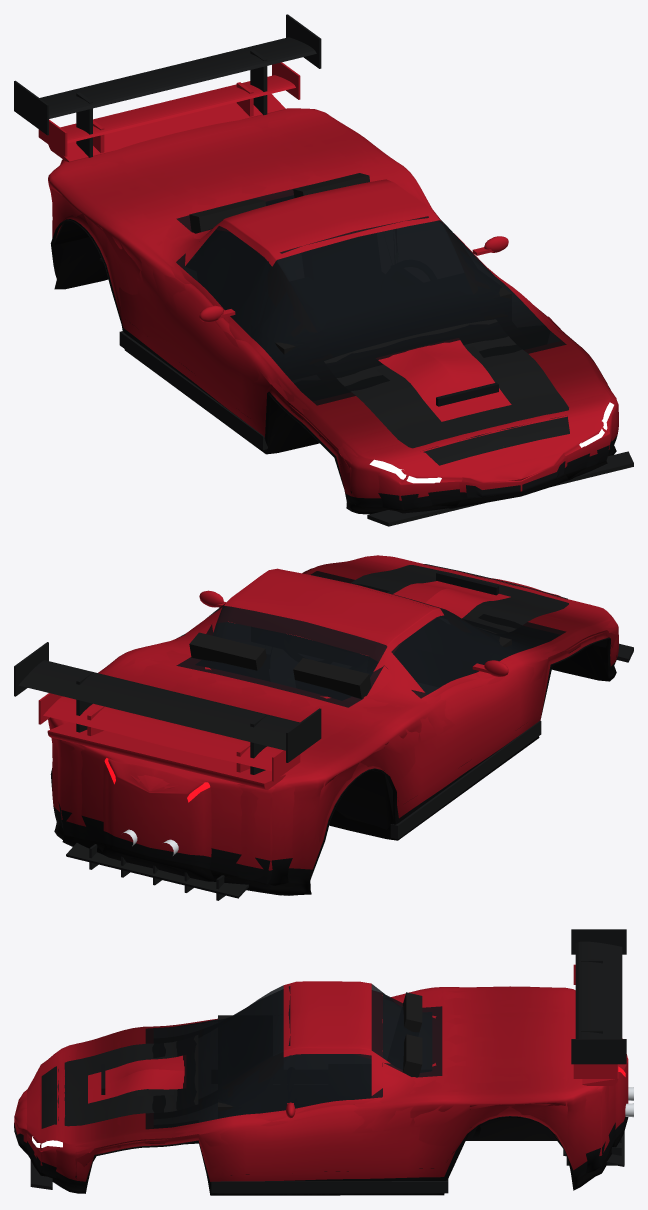
Rendered from sr_lamborghini_huracan_tt.glb.
3 views of the same model, one above another, from view 1: azimuth 30°, elevation 25°; view 2: azimuth 150°, elevation 25°; view 3: azimuth 270°, elevation 25° (orthographic). The views are drawn at different scales.
Visible parts, largest first — view 1: body (×2), hood_3, spoiler_3, hood_1, spoiler_2, bumper_1, spoiler_1, interior, mirrors, grille, headlights; view 2: body (×2), spoiler_3, spoiler_2, bumper_1, spoiler_1, hood_3, interior, hood_1, mirrors, hood_1_intake; view 3: body (×2), spoiler_3, hood_3, bumper_1, hood_1, interior, spoiler_2.
Part boxes in pixels (bbox=[...]): body (×2): bbox=[48, 108, 618, 514]; hood_3: bbox=[324, 319, 569, 465]; spoiler_3: bbox=[14, 14, 321, 157]; hood_1: bbox=[378, 340, 511, 421]; spoiler_2: bbox=[38, 62, 300, 156]; bumper_1: bbox=[99, 258, 633, 526]; spoiler_1: bbox=[48, 94, 285, 162]; interior: bbox=[189, 173, 511, 354]; mirrors: bbox=[199, 236, 508, 322]; grille: bbox=[466, 461, 565, 497]; headlights: bbox=[369, 403, 613, 483]; body (×2): bbox=[48, 555, 618, 895]; spoiler_3: bbox=[14, 642, 321, 774]; spoiler_2: bbox=[38, 693, 300, 781]; bumper_1: bbox=[66, 643, 633, 900]; spoiler_1: bbox=[47, 722, 285, 790]; hood_3: bbox=[351, 564, 568, 633]; interior: bbox=[189, 632, 511, 698]; hood_1: bbox=[392, 581, 510, 618]; mirrors: bbox=[199, 590, 508, 676]; hood_1_intake: bbox=[436, 571, 498, 595]; body (×2): bbox=[14, 981, 628, 1195]; spoiler_3: bbox=[571, 929, 626, 1064]; hood_3: bbox=[41, 1035, 198, 1128]; bumper_1: bbox=[30, 1131, 624, 1193]; hood_1: bbox=[88, 1055, 184, 1103]; interior: bbox=[218, 992, 422, 1111]; spoiler_2: bbox=[573, 964, 617, 1078].
Bounding box in the file's own units: 2.14 × 1.27 × 4.5.
